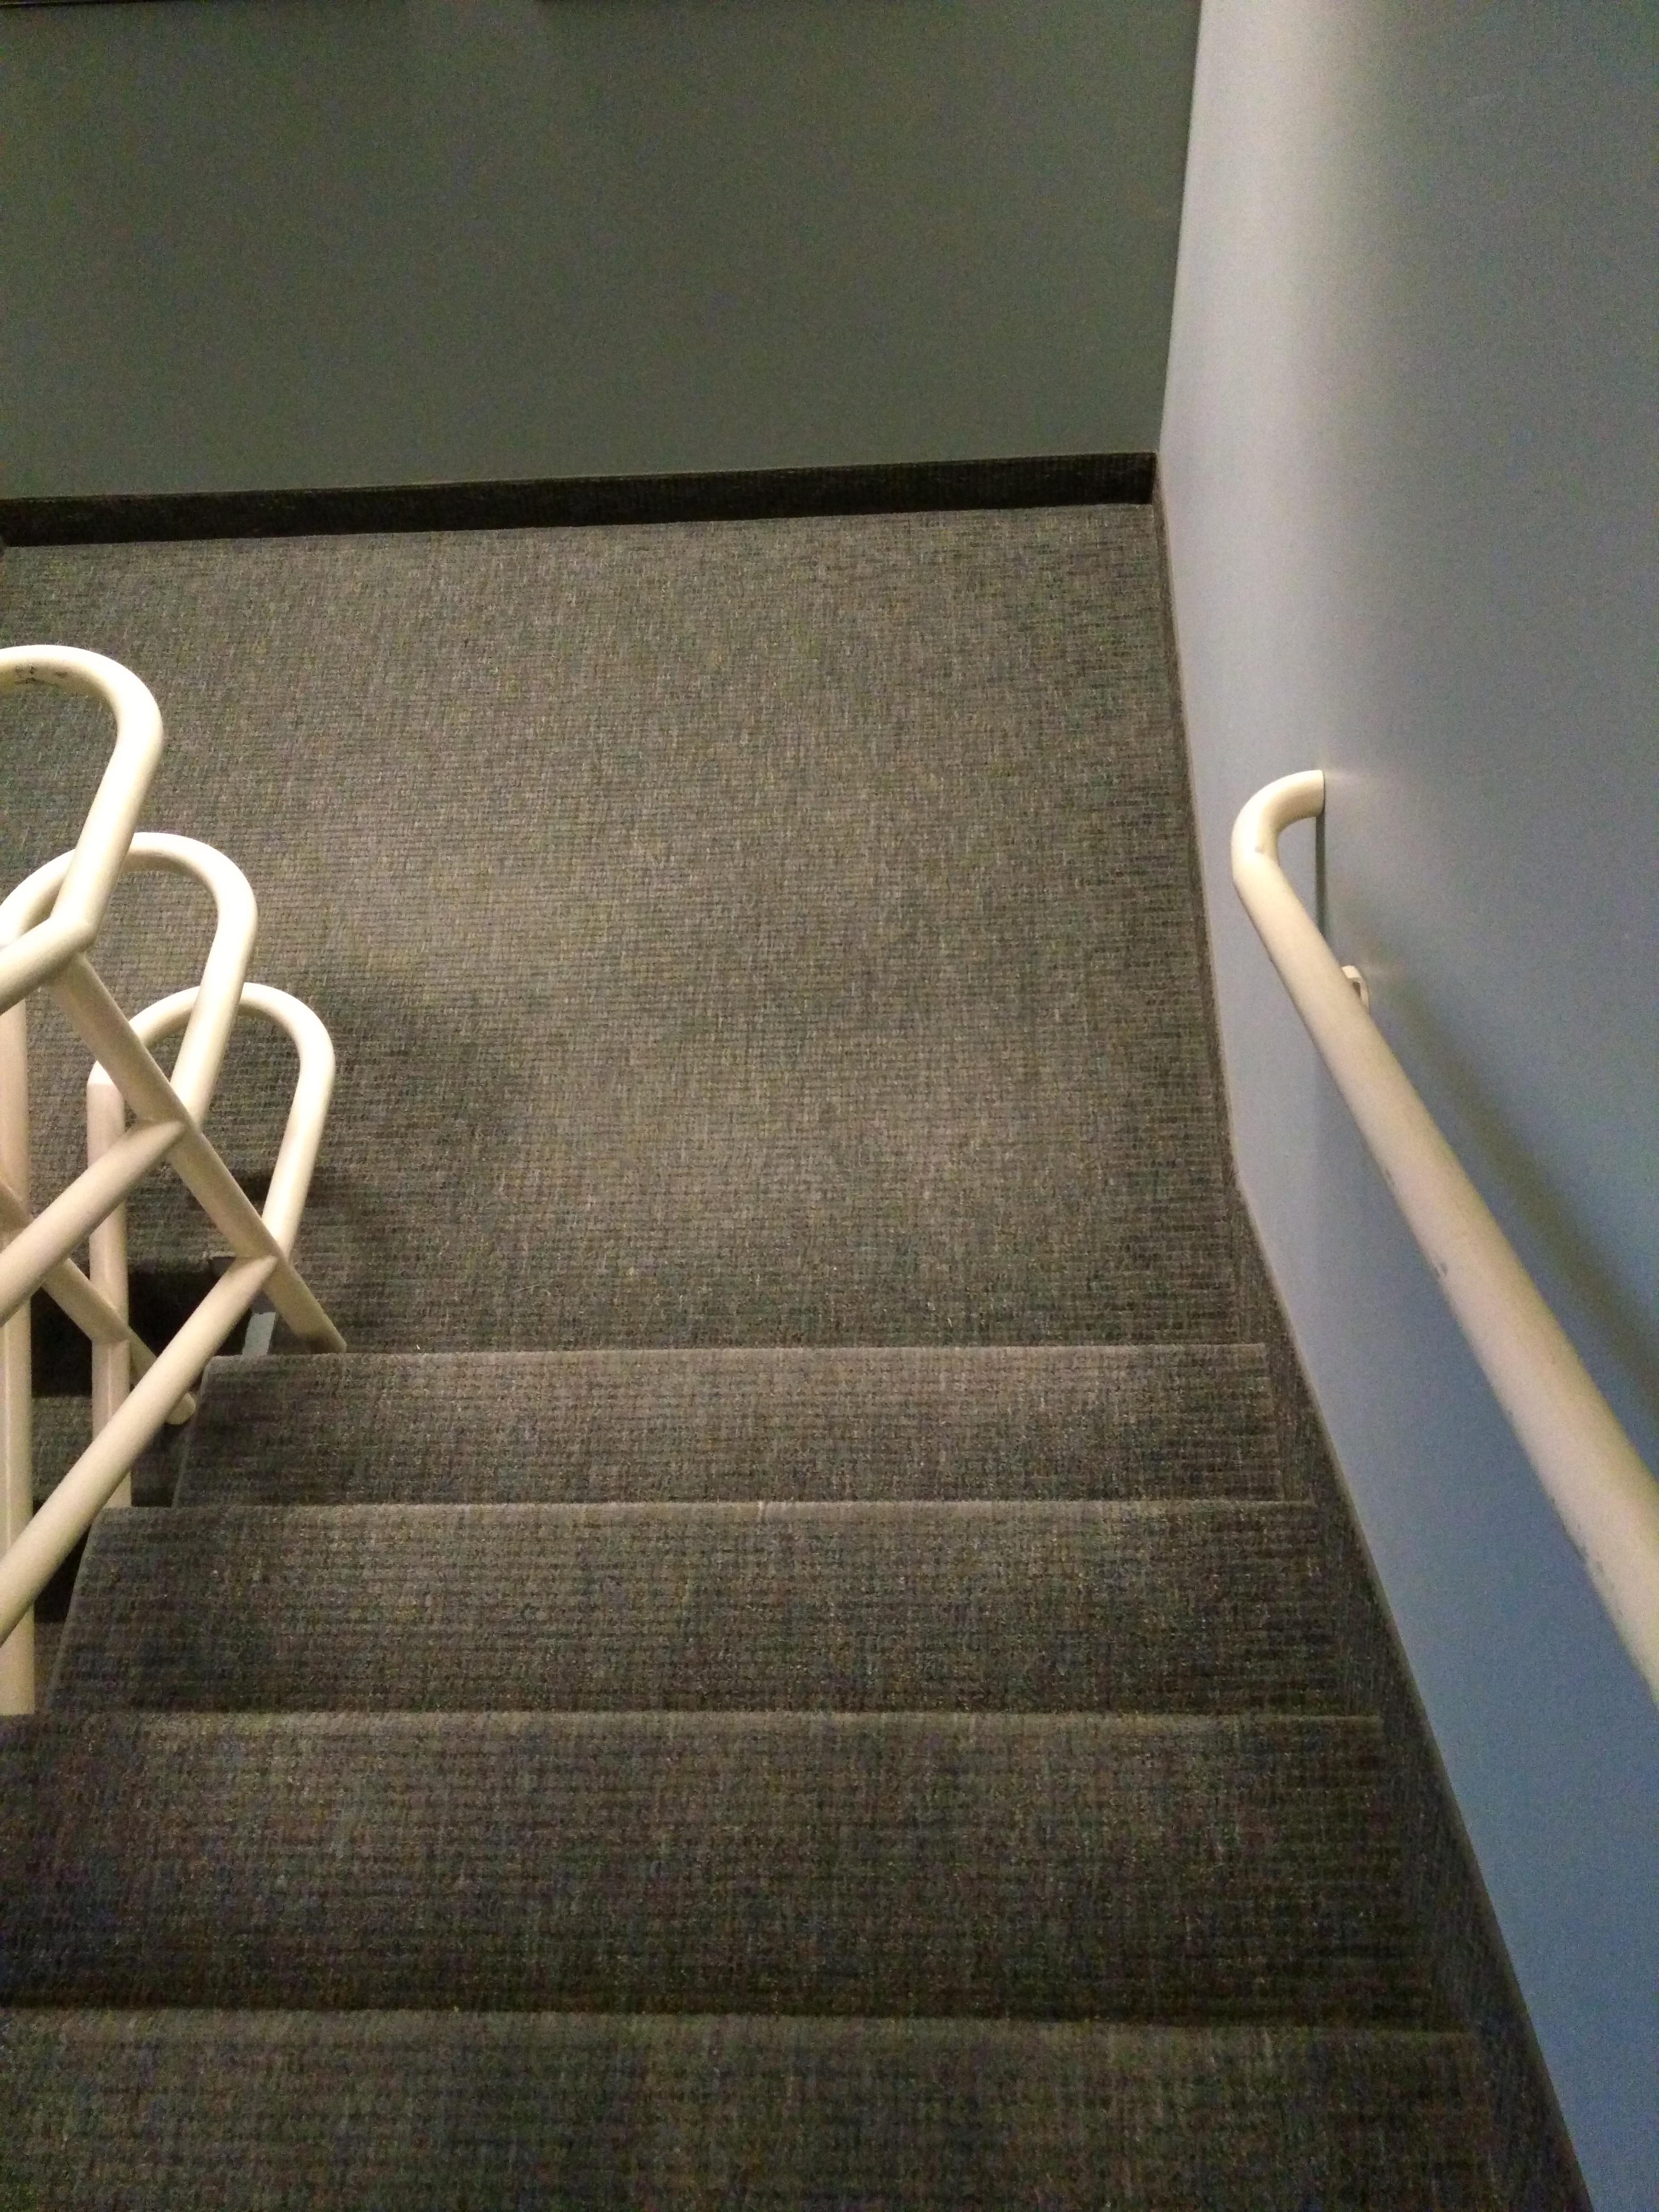stairs_down: (56, 1209, 1399, 2114)
